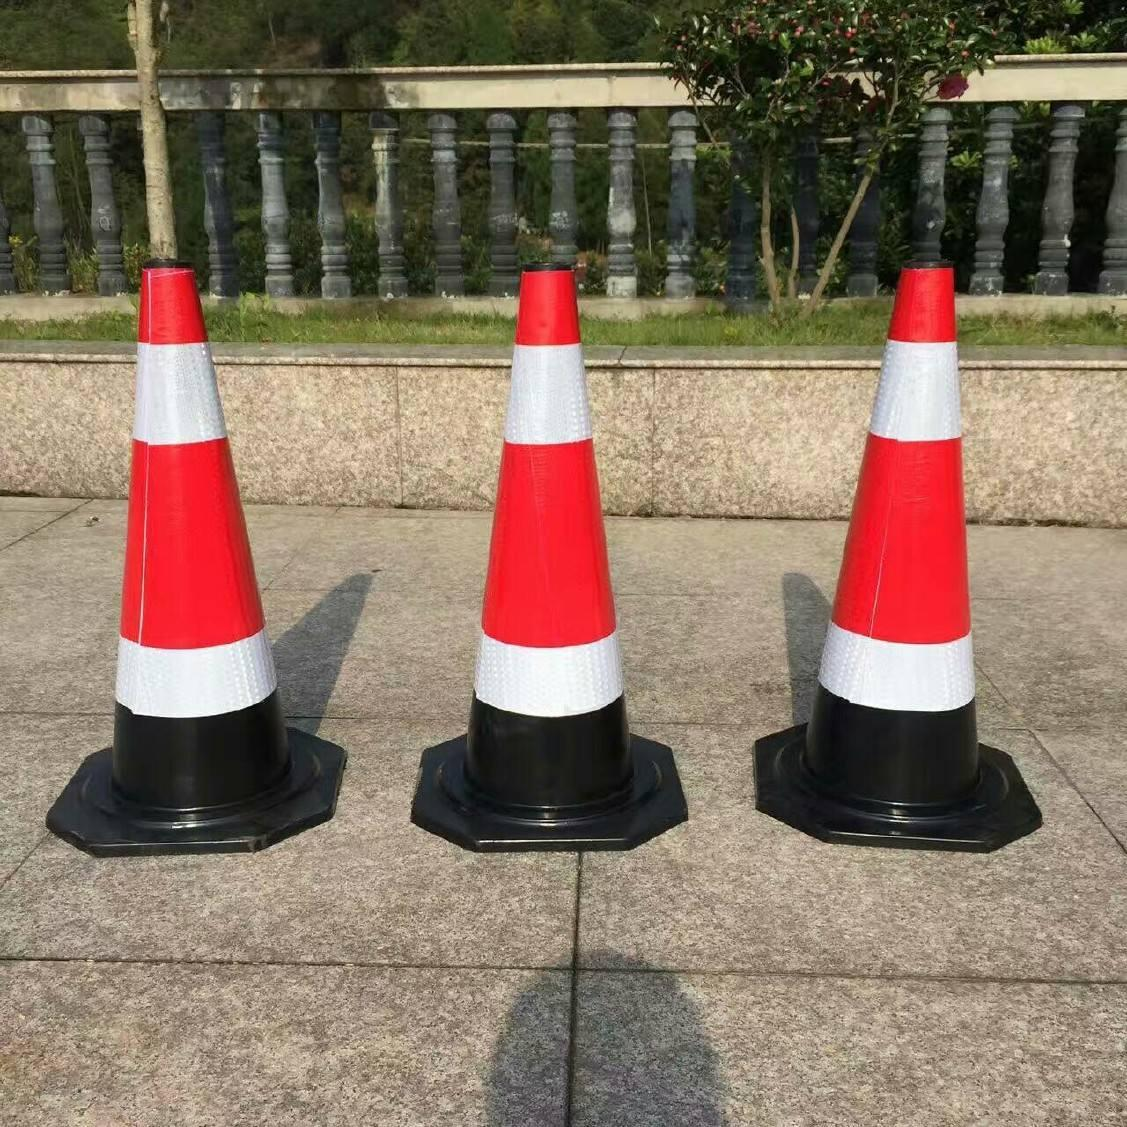sign: (750, 249, 1066, 858), (44, 258, 348, 871), (403, 261, 700, 862)
